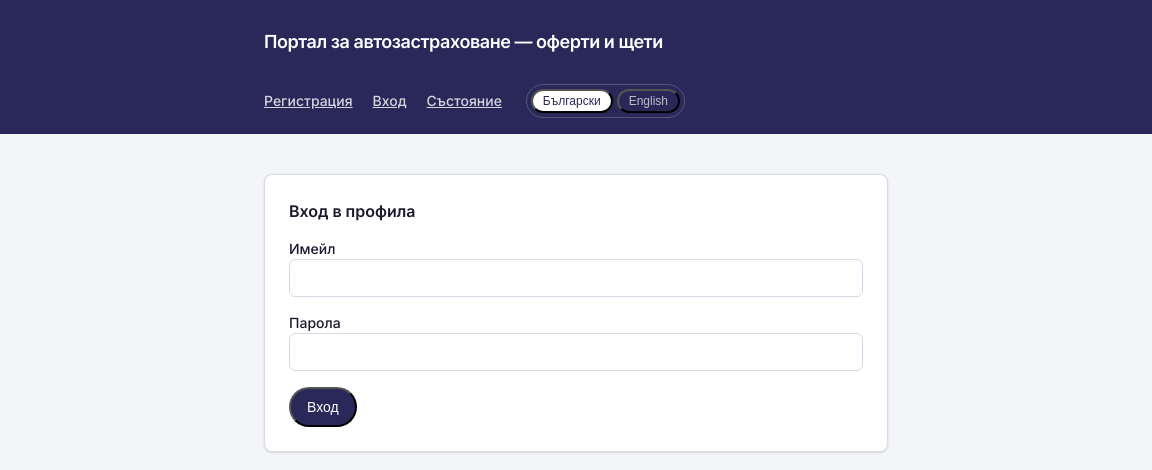
Test: LoginForm role-based post-login routing › identity swap: logging in as a different role than the expired one already stored lands on the new role's home, with no stale role left over (Epic 2 retro item
Type "someone@example.com" into the field labelled "Имейл" at (576, 278), box [289,259,863,297]
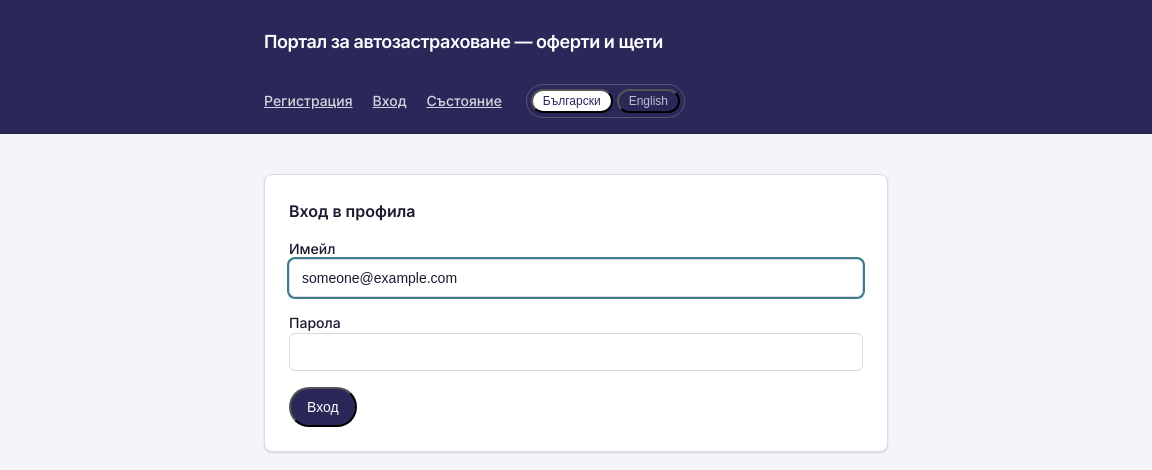
Type "DemoPass123!" into the password field labelled "Парола" at (576, 352), box [289,333,863,371]
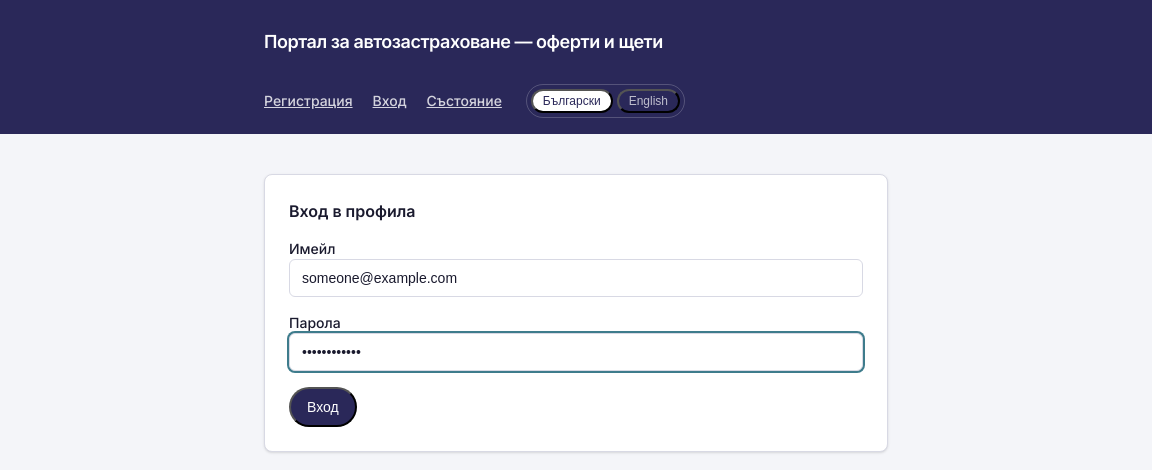
Click the button "Вход" at (323, 407), box [289,387,357,427]
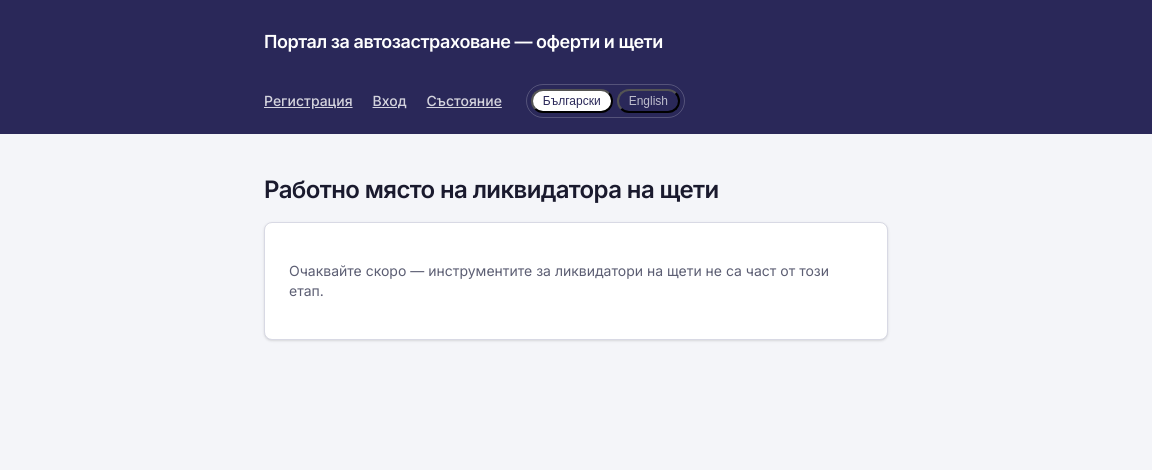
Expected: the element with test id "liquidator-shell" is shown, [264,174,888,340]
